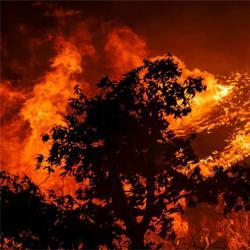fire: (24, 99, 68, 131), (192, 79, 235, 107)
